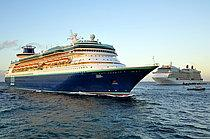Ship: (1, 29, 163, 101), (151, 61, 209, 90)
